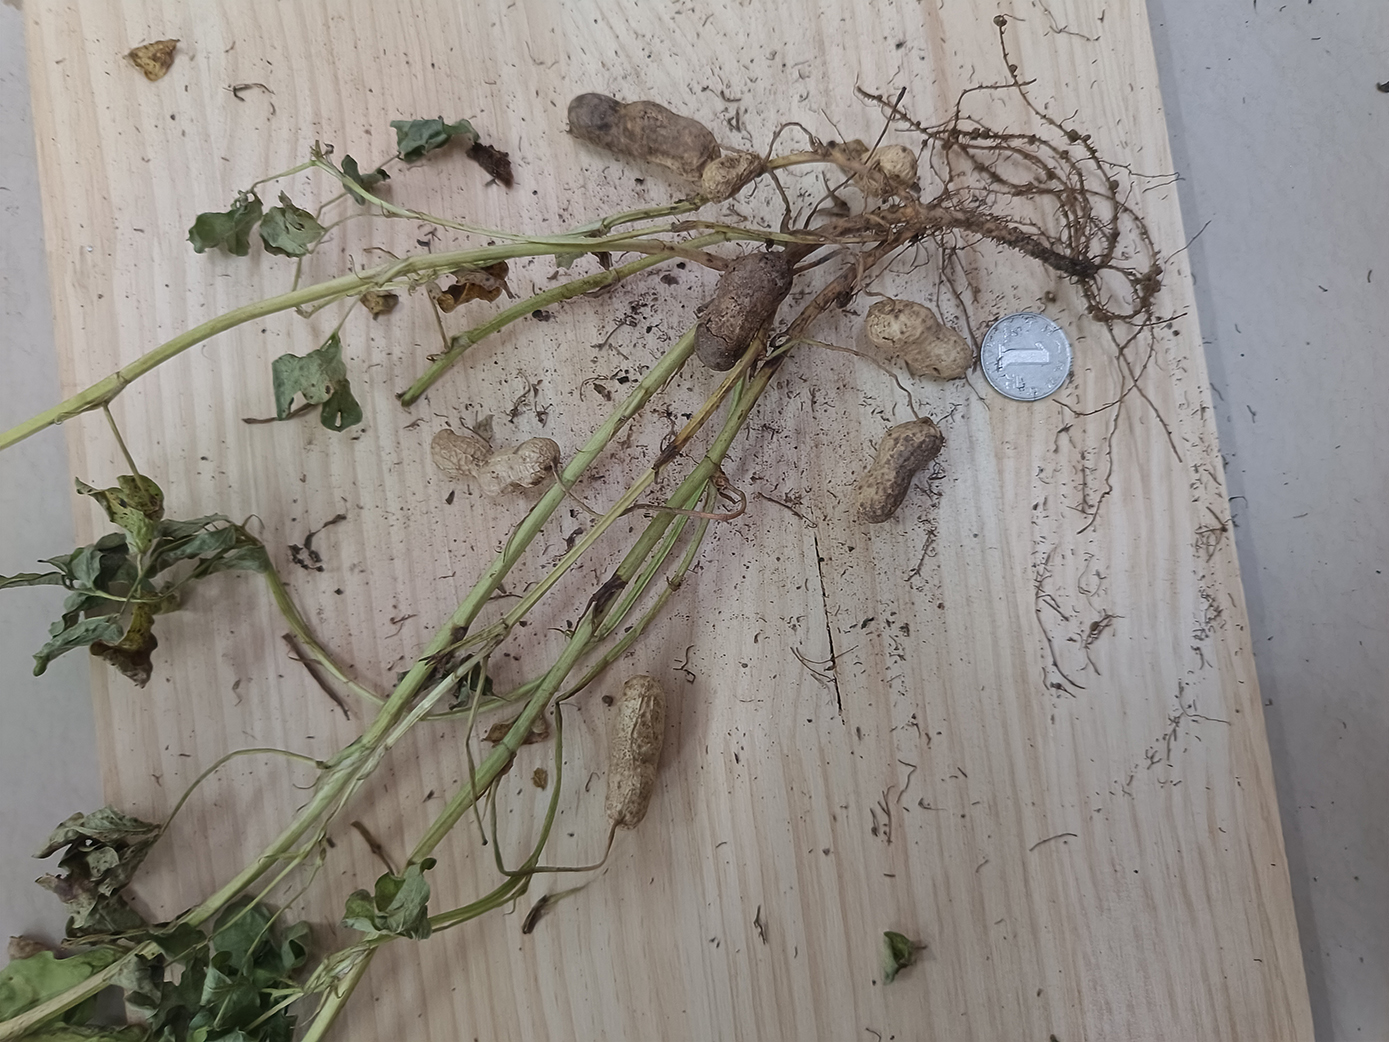h: (865, 299, 975, 383), (604, 678, 665, 826), (430, 428, 562, 496), (859, 421, 944, 523), (854, 146, 917, 196), (702, 161, 745, 199)
l: (570, 94, 715, 177), (695, 253, 792, 370)
